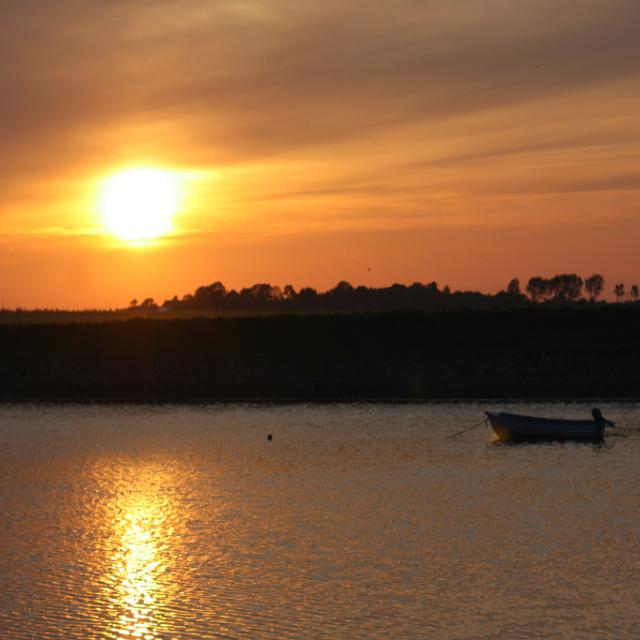no_fire: (15, 106, 272, 266), (89, 444, 224, 640)
